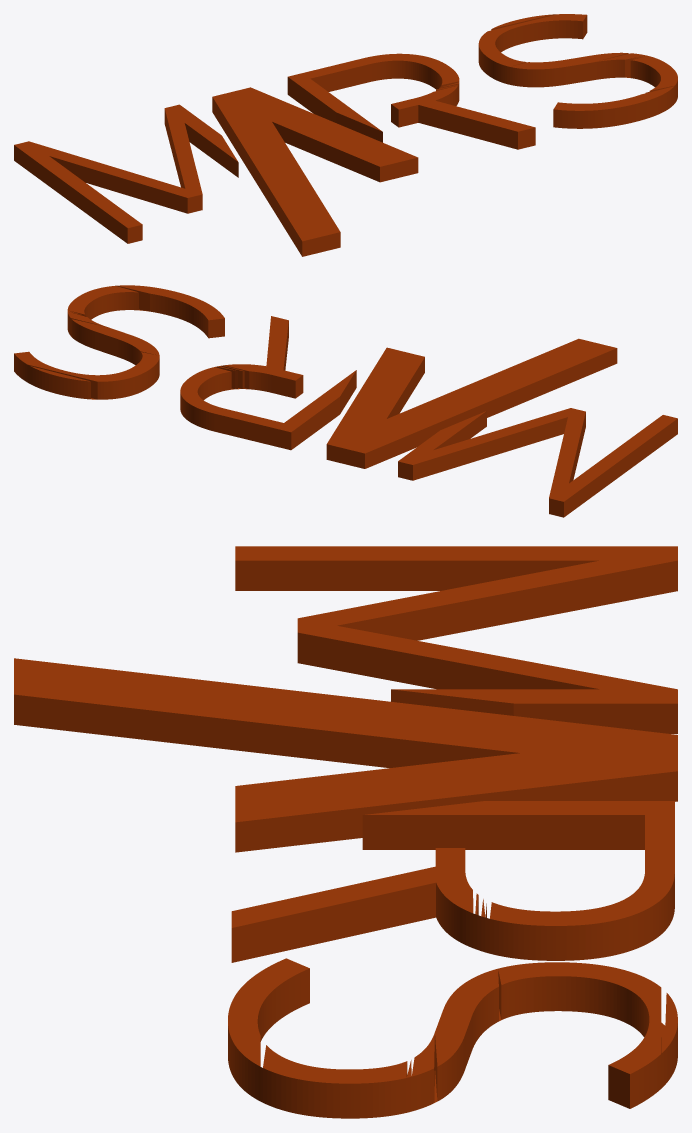
Rendered from mars02_3d.dae.
3 renders of one model, top to bottom at view 1: azimuth 30°, elevation 25°; view 2: azimuth 150°, elevation 25°; view 3: azimuth 270°, elevation 25°, orthographic. The views are drawn at different scales.
Visible parts, largest first — view 1: Curve, Curve.003, Curve.002; view 2: Curve, Curve.003, Curve.002; view 3: Curve, Curve.003, Curve.002.
Part boxes in pixels (<box>): Curve: <box>287,14,677,149</box>; Curve.003: <box>212,87,418,256</box>; Curve.002: <box>14,104,238,243</box>; Curve: <box>14,285,356,450</box>; Curve.003: <box>326,338,617,468</box>; Curve.002: <box>398,408,677,517</box>; Curve: <box>228,801,677,1118</box>; Curve.003: <box>14,658,677,852</box>; Curve.002: <box>235,546,677,733</box>.
Size of the model in its own units: 5.24 by 2.71 by 0.1575.
